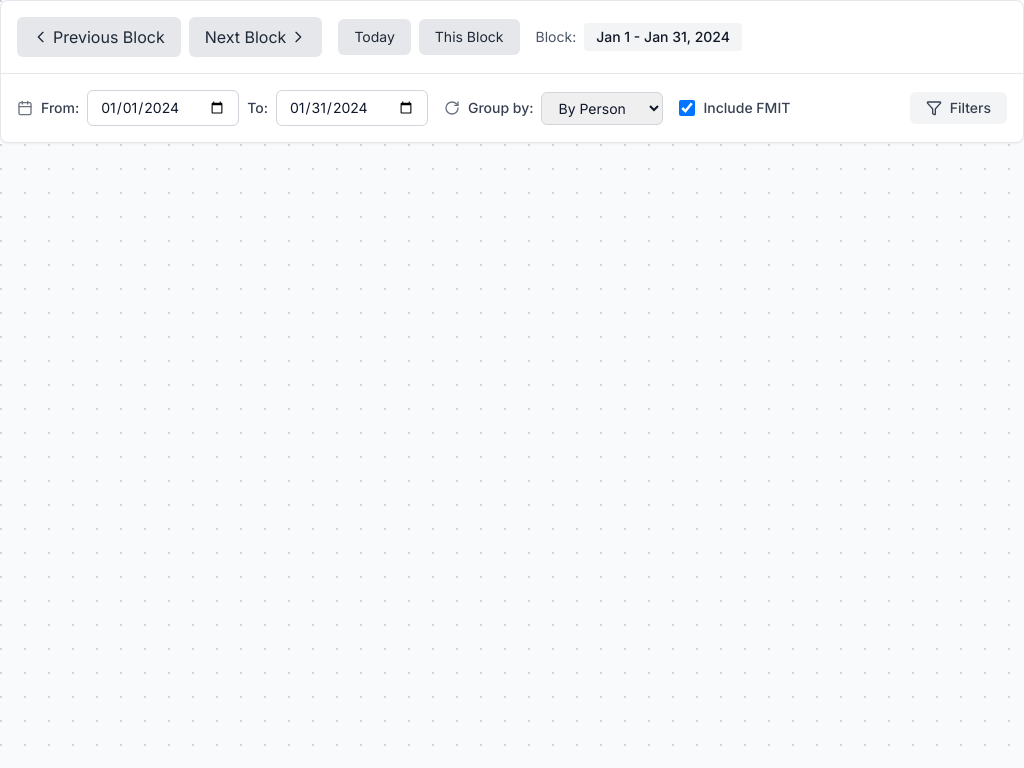
Test: HeatmapControls › Person Filter › should show empty state when no persons available
Click the button "Filters" at (958, 108), box [910,92,1007,124]
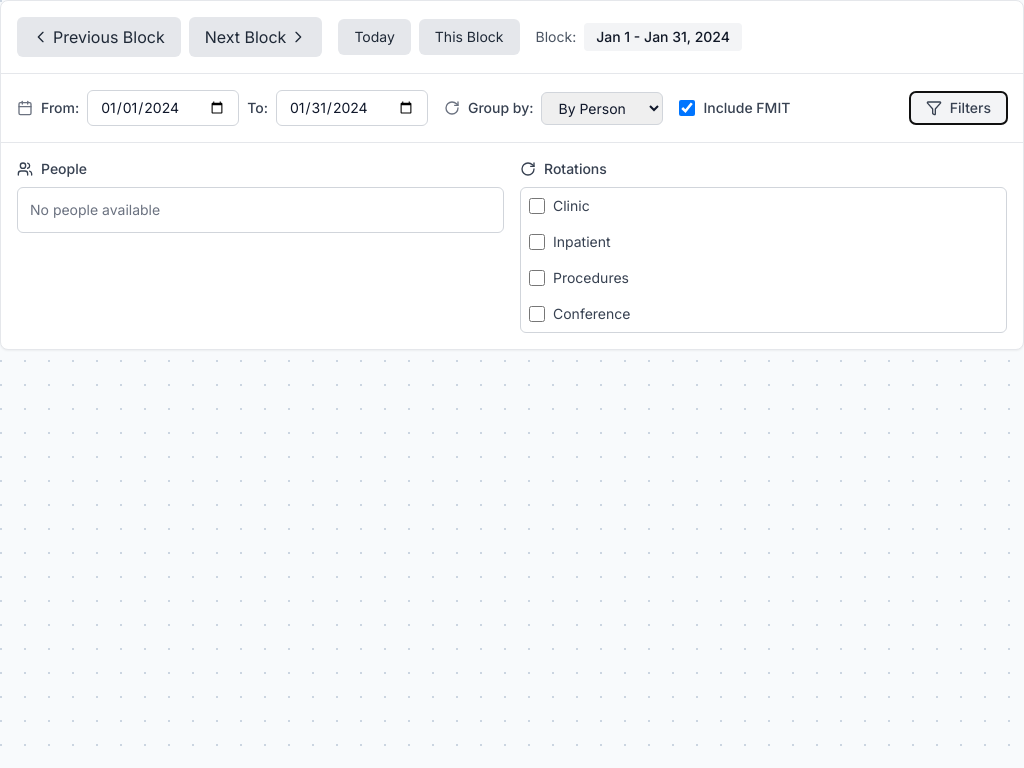
Check: the text "No people available" is shown, box [30,201,160,218]
